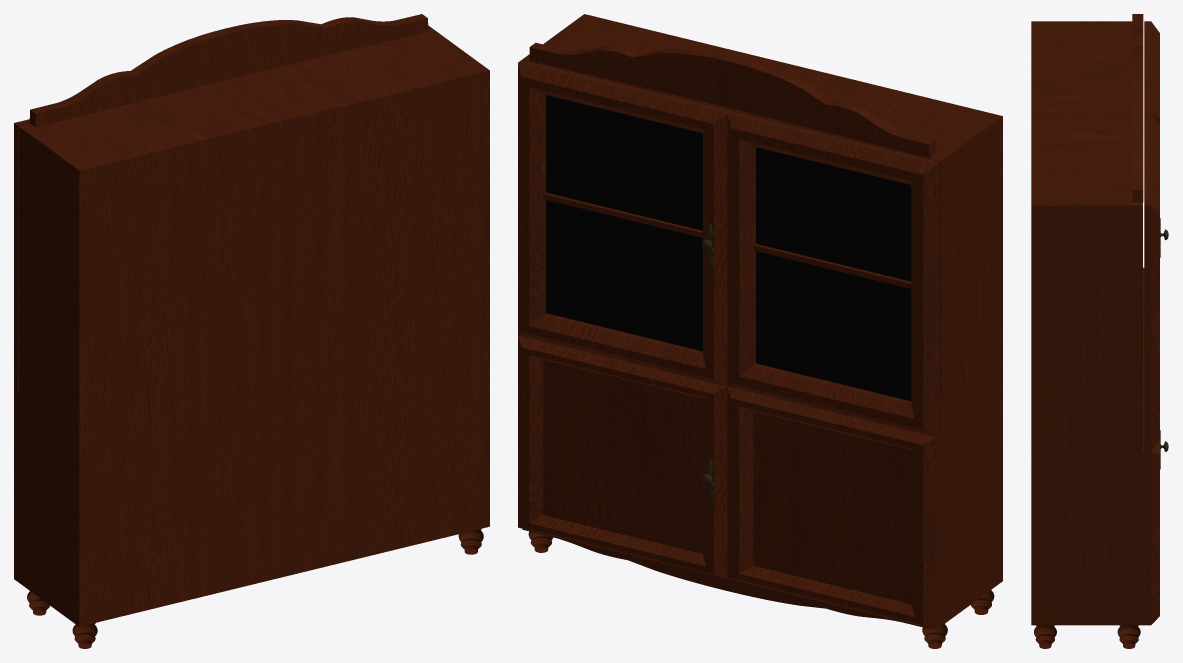
Rendered from dining room cabinet.fbx.
3 renders of one model, left to right at view 1: azimuth 30°, elevation 25°; view 2: azimuth 150°, elevation 25°; view 3: azimuth 270°, elevation 25°, orthographic. The views are drawn at different scales.
Visible parts, largest first — view 1: wand_schrank_2, wand_schrank_1, Extrudieren, schrank_türen_2, beine; view 2: wand_schrank_1, schrank_türen, schrank_türen_2, wand_schrank_2, Extrudieren, Extrudieren_1, Würfel_1, beine; view 3: wand_schrank_2, wand_schrank_1, schrank_türen_2, Extrudieren, beine.
Part boxes in pixels (<box>): wand_schrank_2: <box>18,26,489,437</box>; wand_schrank_1: <box>14,338,489,626</box>; Extrudieren: <box>29,14,428,127</box>; schrank_türen_2: <box>14,119,29,393</box>; beine: <box>27,528,483,648</box>; wand_schrank_1: <box>518,335,1002,629</box>; schrank_türen: <box>546,95,911,401</box>; schrank_türen_2: <box>518,60,940,437</box>; wand_schrank_2: <box>522,14,1002,433</box>; Extrudieren: <box>529,42,935,158</box>; Extrudieren_1: <box>522,528,931,629</box>; Würfel_1: <box>543,192,911,288</box>; beine: <box>528,531,994,648</box>; wand_schrank_2: <box>1031,21,1142,451</box>; wand_schrank_1: <box>1031,267,1159,625</box>; schrank_türen_2: <box>1144,21,1159,451</box>; Extrudieren: <box>1132,14,1143,202</box>; beine: <box>1034,625,1140,648</box>.
Bounding box in the file's own units: 496 × 614 × 156.
8 materials, 5 textured.
